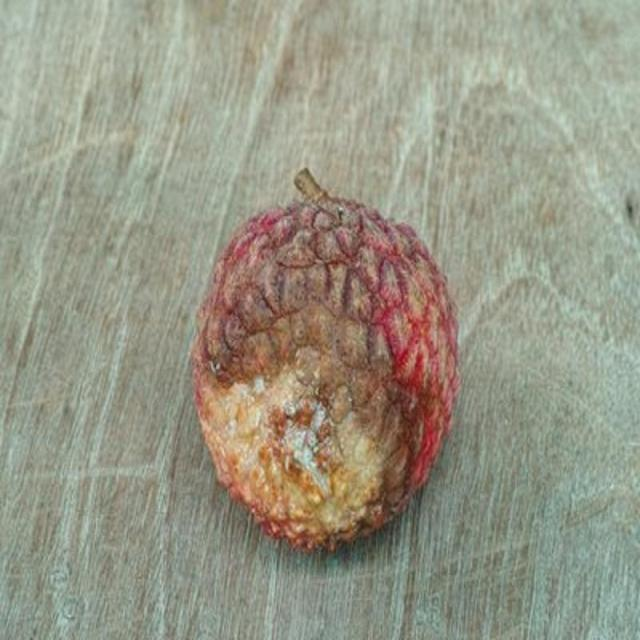Wet Waste: (191, 163, 462, 554)
